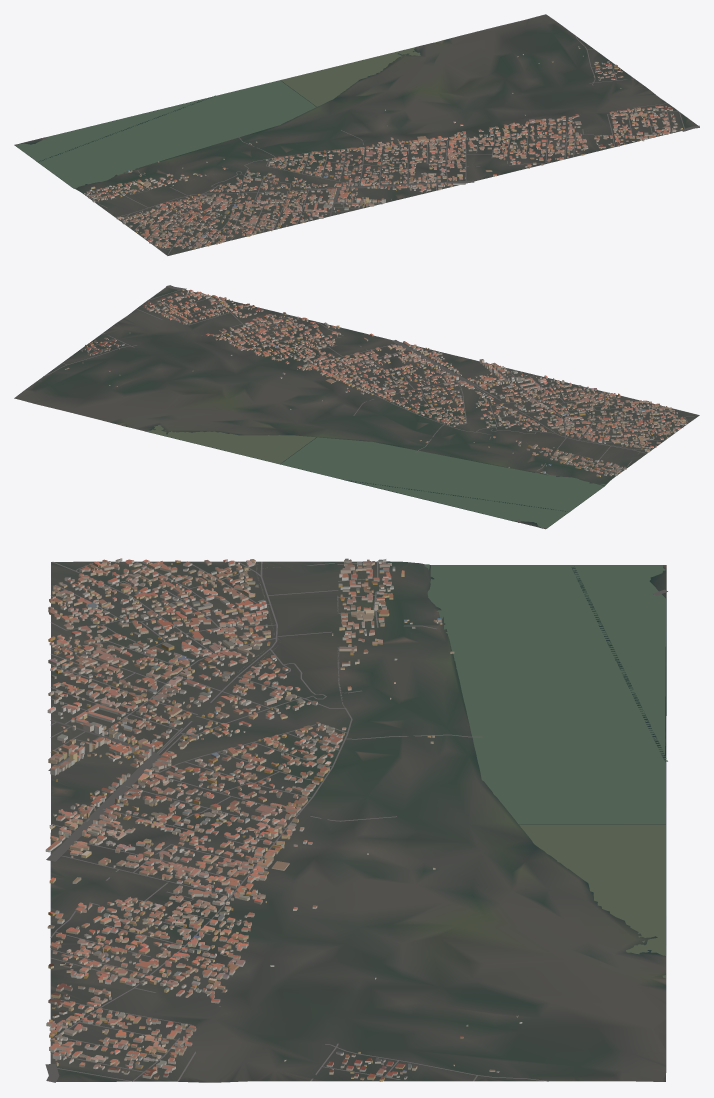
The picture shows the model from 3 angles, top to bottom: view 1: azimuth 30°, elevation 25°; view 2: azimuth 150°, elevation 25°; view 3: azimuth 270°, elevation 25°; orthographic projection. The views are drawn at different scales.
Parts seen in each view (by area): view 1: ground, buildings, water, roads; view 2: ground, buildings, water, roads; view 3: ground, water, buildings, roads.
Part boxes in pixels (box(x1,y1,x2,y2)): ground: box(14, 14, 697, 255); buildings: box(84, 46, 682, 248); water: box(15, 42, 437, 188); roads: box(40, 35, 699, 255); ground: box(14, 286, 699, 529); buildings: box(64, 289, 686, 476); water: box(123, 425, 605, 528); roads: box(43, 285, 699, 522); ground: box(50, 561, 666, 1082); water: box(424, 564, 667, 978); buildings: box(45, 558, 522, 1081); roads: box(45, 561, 667, 1082).
Bounding box in the file's own units: 2809 × 33.77 × 1419.
